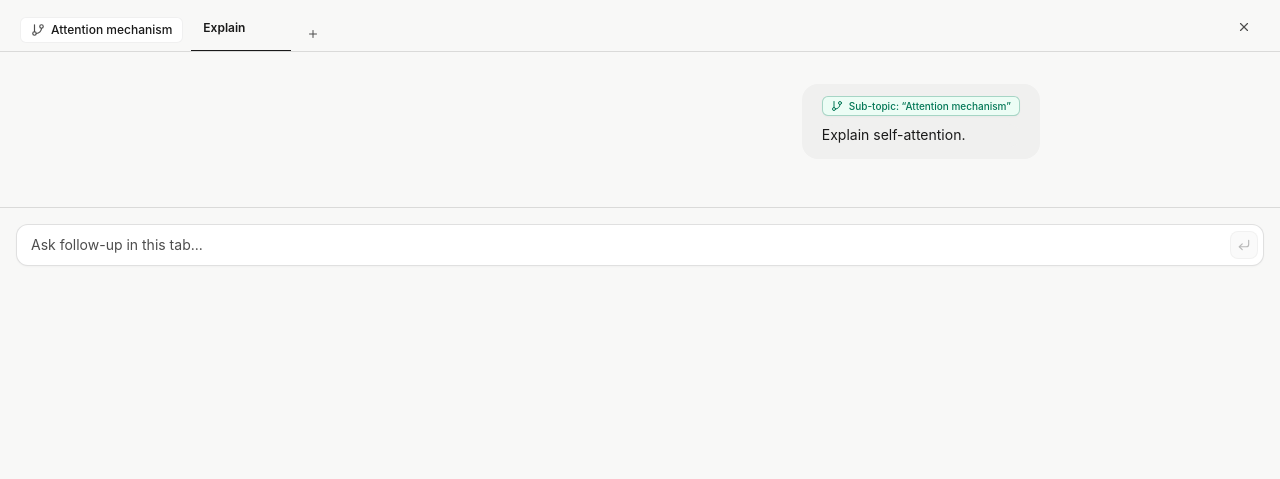
Auxiliary Panels & Repeated Patterns › renders BranchChatPane with semantic tokens and handles tab interactions
Expected: the text "Attention mechanism" is shown, [51,22,172,38]
# Close button triggers onClose
Click the button named "Close branch view".
click(1244, 27)  # box [1228,11,1260,43]
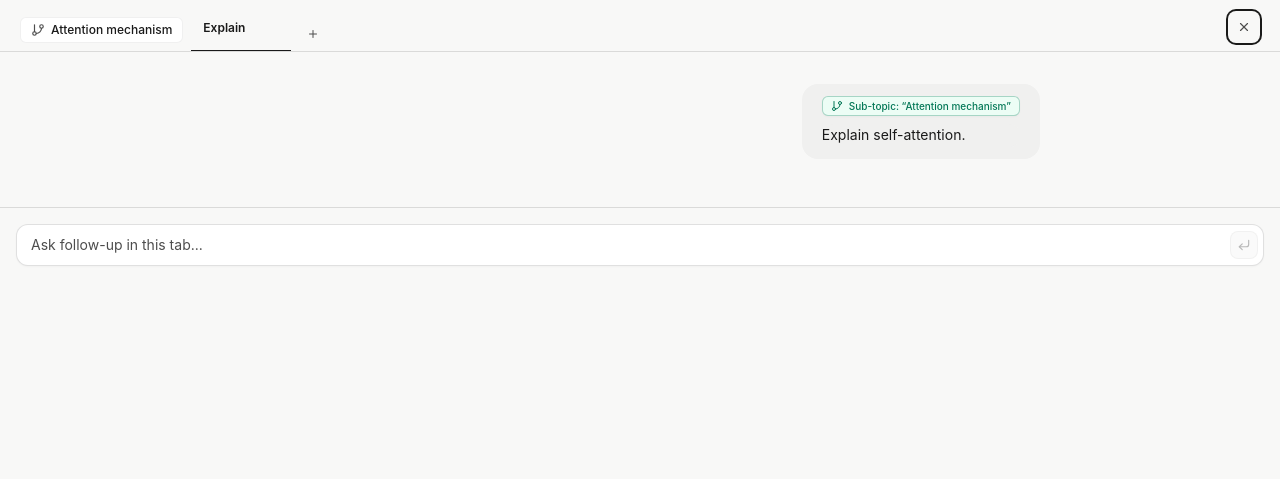
# New sibling branch trigger opens starter templates
Click the button named "Create new sub-branch query on this topic".
click(313, 38)  # box [299,24,327,52]
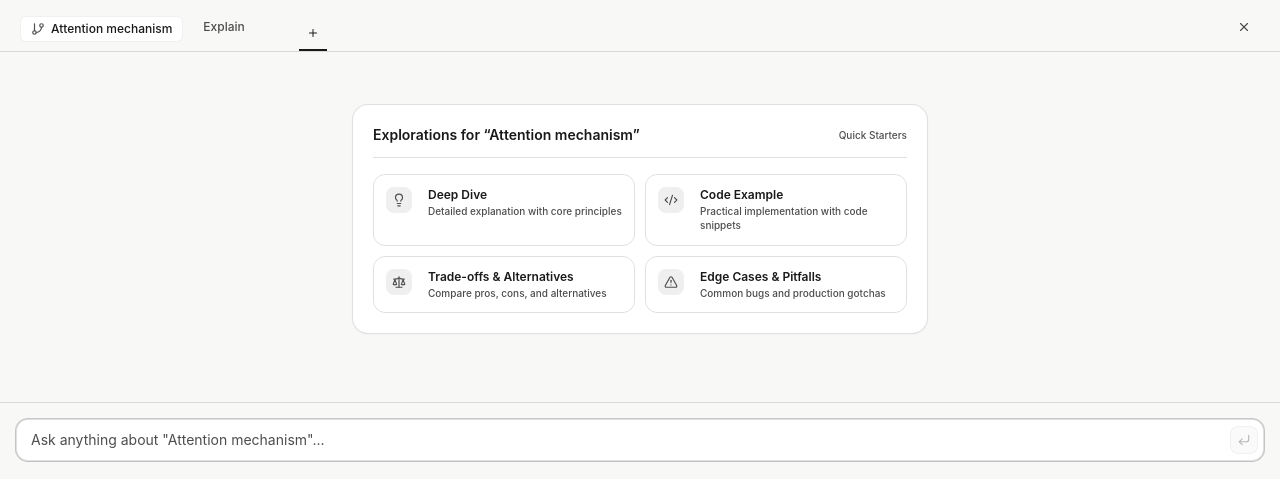
Now the heading "Explorations for “Attention mechanism”" is shown, box [373,125,640,145]
Now the text "Deep Dive" is shown, box [428,187,487,202]
